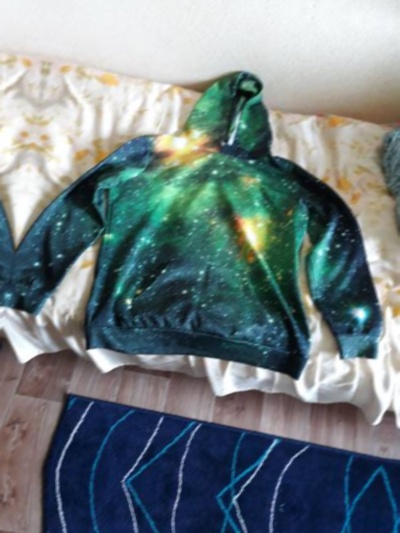Hoodie: (12, 36, 400, 418), (0, 0, 36, 356)
